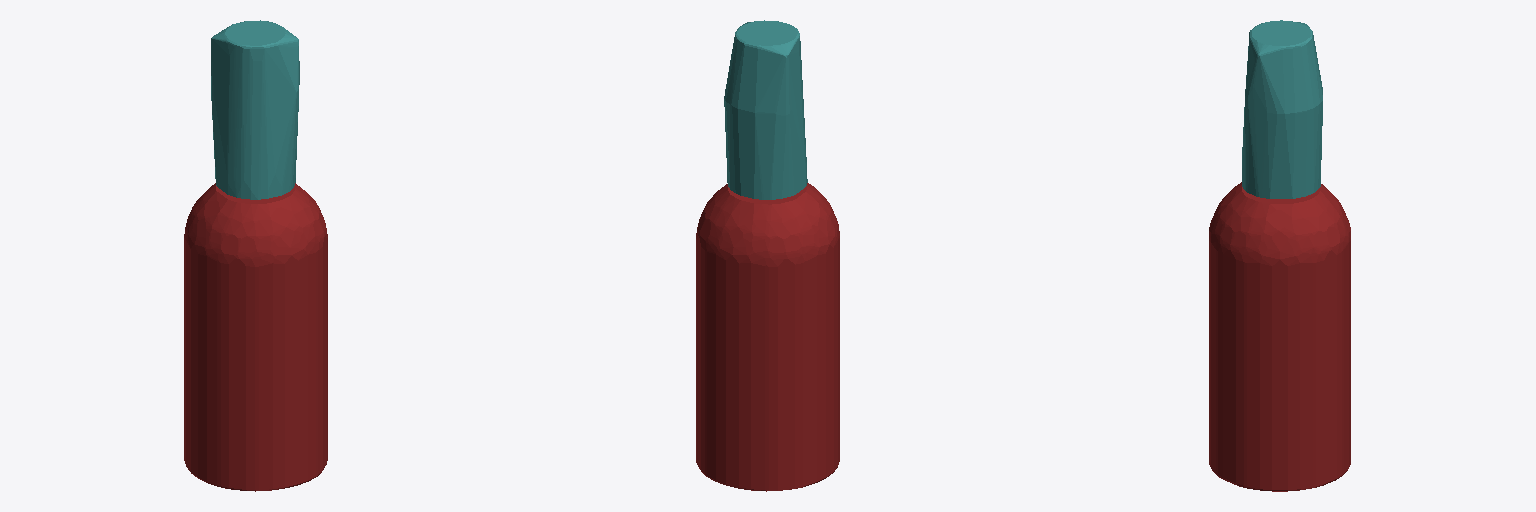
URDF robot description (root):
<robot name="root">
  <link name="bottle_body">
    <inertial>
      <origin xyz="0 0 0" rpy="0 0 0"/>
    </inertial>
    <mass value="1.00E-02"/>
    <visual>
      <origin xyz="0 0 0" rpy="0 0 0"/>
      <geometry>
        <mesh filename="core-bottle-ee3ca78e36c6a7b2a367d39c852840d5-coacd_convex_piece_1.obj" scale="1.0000E-01 1.0000E-01 1.0000E-01"/>
      </geometry>
      <material name="">
        <color rgba="6.00E-01 2.00E-01 2.00E-01 1"/>
      </material>
    </visual>
    <collision>
      <origin xyz="0 0 0" rpy="0 0 0"/>
      <geometry>
        <mesh filename="core-bottle-ee3ca78e36c6a7b2a367d39c852840d5-coacd_convex_piece_1.obj" scale="1.0000E-01 1.0000E-01 1.0000E-01"/>
      </geometry>
    </collision>
  </link>
  <link name="bottle_cap">
    <origin xyz="0 0 0.002" rpy="0 0 0"/>
    <mass value="1.00E-02"/>
    <visual>
      <origin xyz="0 0 0.002" rpy="0 0 0"/>
      <geometry>
        <mesh filename="core-bottle-ee3ca78e36c6a7b2a367d39c852840d5-coacd_convex_piece_0.obj" scale="1.0000E-01 1.0000E-01 1.0000E-01"/>
      </geometry>
      <material name="">
        <color rgba="3.00E-01 6.00E-01 6.00E-01 1"/>
      </material>
    </visual>
    <collision>
      <origin xyz="0 0 0.002" rpy="0 0 0"/>
      <geometry>
        <mesh filename="core-bottle-ee3ca78e36c6a7b2a367d39c852840d5-coacd_convex_piece_0.obj" scale="1.0000E-01 1.0000E-01 1.0000E-01"/>
      </geometry>
    </collision>
  </link>
  <joint name="bottle_cap_joint" type="revolute">
    <origin xyz="0 0 0" rpy="0 0 0"/>
    <parent link="bottle_body"/>
    <child link="bottle_cap"/>
    <axis xyz="0 0 1"/>
    <limit lower="0.00" upper="6.28"/>
    <dynamics damping="0.05"/>
  </joint>
</robot>

--- Render facts (derived) ---
The picture shows the robot from 3 angles, left to right: view 1: azimuth 30°, elevation 25°; view 2: azimuth 150°, elevation 25°; view 3: azimuth 270°, elevation 25°; orthographic projection.
Model root with 2 links and 1 joints (1 revolute), rooted at bottle_body, posed every joint at zero.
Links seen in each view (by area): view 1: bottle_body, bottle_cap; view 2: bottle_body, bottle_cap; view 3: bottle_body, bottle_cap.
Link boxes in pixels (x1=…): bottle_body: x1=184, y1=183, x2=327, y2=491; bottle_cap: x1=211, y1=20, x2=299, y2=199; bottle_body: x1=696, y1=183, x2=839, y2=491; bottle_cap: x1=724, y1=20, x2=807, y2=199; bottle_body: x1=1209, y1=182, x2=1350, y2=491; bottle_cap: x1=1242, y1=20, x2=1322, y2=198.
Bounding box of the posed robot: 0.0572 × 0.0572 × 0.1898 m (x, y, z).
Meshes: 2 distinct files referenced, 2 mesh visuals loaded (2 OBJ).